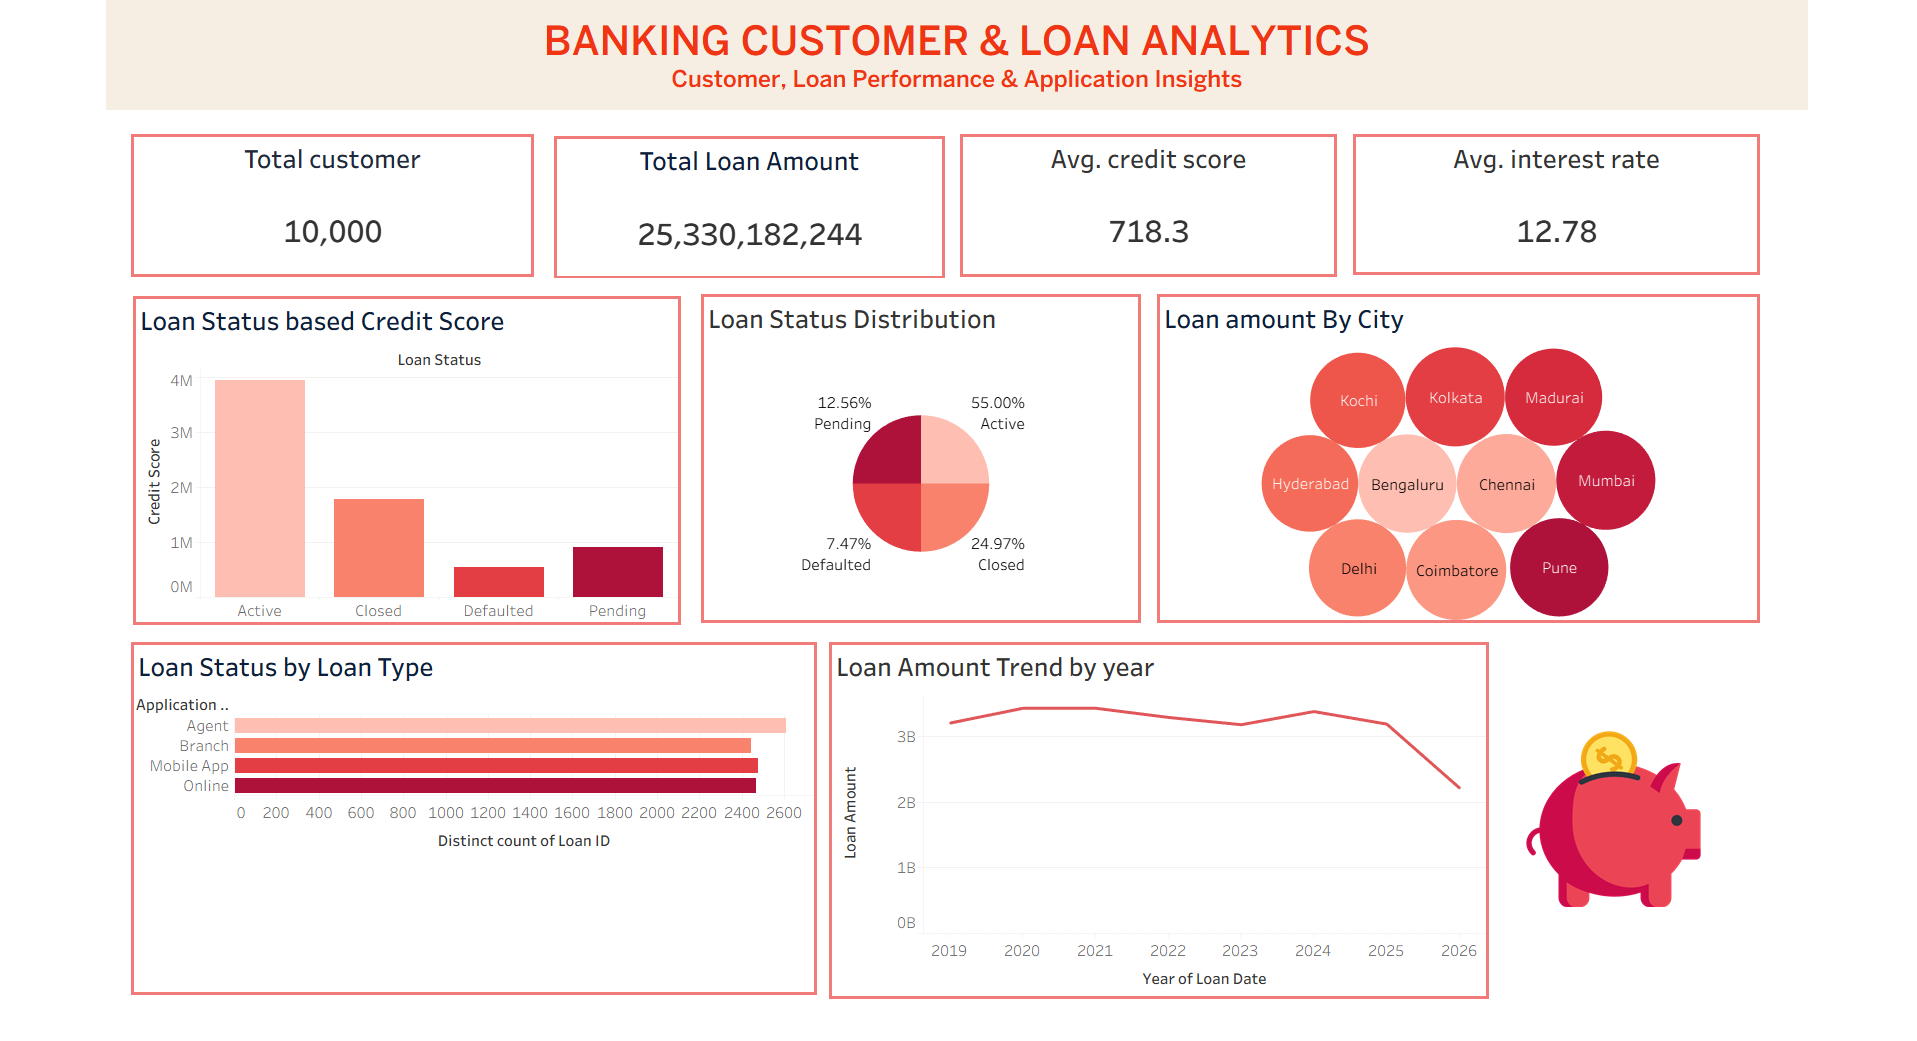

This screenshot's page, from the dashboard's own definition file:
{"tool":"tableau","page":{"name":"Dashboard 3","canvas":[1000,1000],"units":"permille","ordinal":0},"visuals":[{"type":"worksheet","title":"Total Customer","mark":"Automatic","box":[12.9,128.9,237.1,136.7]},{"type":"worksheet","title":"Average Credit Score","mark":"Automatic","box":[500.6,128.9,221.8,136.7]},{"type":"worksheet","title":"Average interest rate","mark":"Automatic","box":[731.8,128.9,239.4,135.6]},{"type":"worksheet","title":"Total loan amount","mark":"Automatic","box":[261.8,130,230,136.7]},{"type":"worksheet","title":"loan status distribution","mark":"Pie","box":[348.2,282.2,258.8,315.6]},{"type":"worksheet","title":"Loan amount by City","mark":"Circle","box":[616.5,282.2,354.7,315.6]},{"type":"worksheet","title":"loan status by credit score","mark":"Automatic","rows":["Credit_Score"],"cols":["Loan_Status"],"box":[14.1,283.3,322.4,315.6]},{"type":"worksheet","title":"Application channel","mark":"Bar","rows":["Application_Channel"],"cols":["Loan_ID"],"box":[12.9,615.6,403.5,338.9]},{"type":"worksheet","title":"Loan Amount Trend","mark":"Automatic","rows":["Loan_Amount"],"cols":["Loan_Date"],"box":[423.5,615.6,388.2,342.2]},{"type":"image","param":"Image/piggy-bank.png","box":[832.8,700.7,136.1,168.7]}]}

Visuals, with their boxes on the dashboard's canvas, which has no fixed pixel size, in thousandths of its width and height (x1, y1, x2, y2). These are canvas units, not pixel positions in the 1917x1041 screenshot, which may show the page scaled, cropped or inside an application window:
"Total Customer" worksheet: l=13, t=129, r=250, b=266
"Average Credit Score" worksheet: l=501, t=129, r=722, b=266
"Average interest rate" worksheet: l=732, t=129, r=971, b=264
"Total loan amount" worksheet: l=262, t=130, r=492, b=267
"loan status distribution" worksheet (Pie marks): l=348, t=282, r=607, b=598
"Loan amount by City" worksheet (Circle marks): l=616, t=282, r=971, b=598
"loan status by credit score" worksheet: l=14, t=283, r=336, b=599
"Application channel" worksheet (Bar marks): l=13, t=616, r=416, b=954
"Loan Amount Trend" worksheet: l=424, t=616, r=812, b=958
image: l=833, t=701, r=969, b=869
